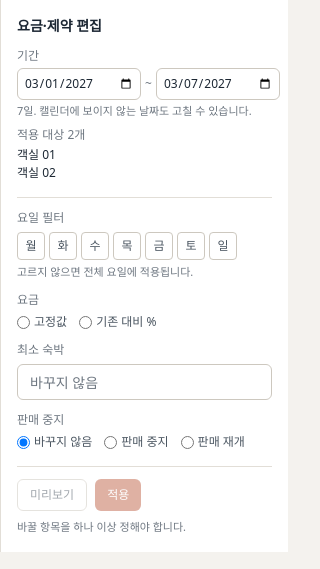
요금·제약 편집 패널 › 366일은 한 번에 된다
Type "2" into the number field with test id "min-stay-input" at (144, 382), box [17, 364, 272, 400]
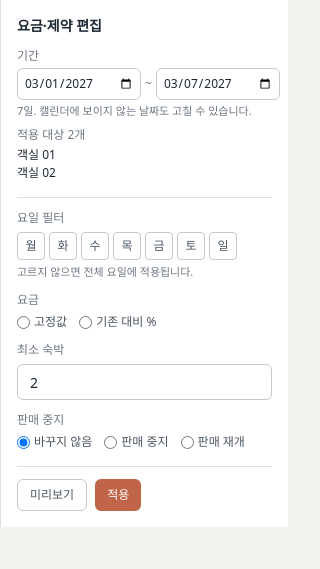
2028 은 윤년이라 2027-03-01 ~ 2028-02-29 가 366일이다.
Type "2028-02-29" into the date field with test id "range-to" at (218, 84), box [156, 68, 280, 100]
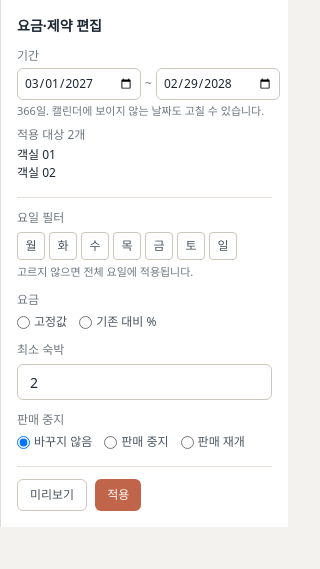
Expected: the button with test id "preview-button" is enabled, [17, 479, 87, 511]
Expected: the text with test id "range-hint" shows "366일", [17, 103, 264, 118]
